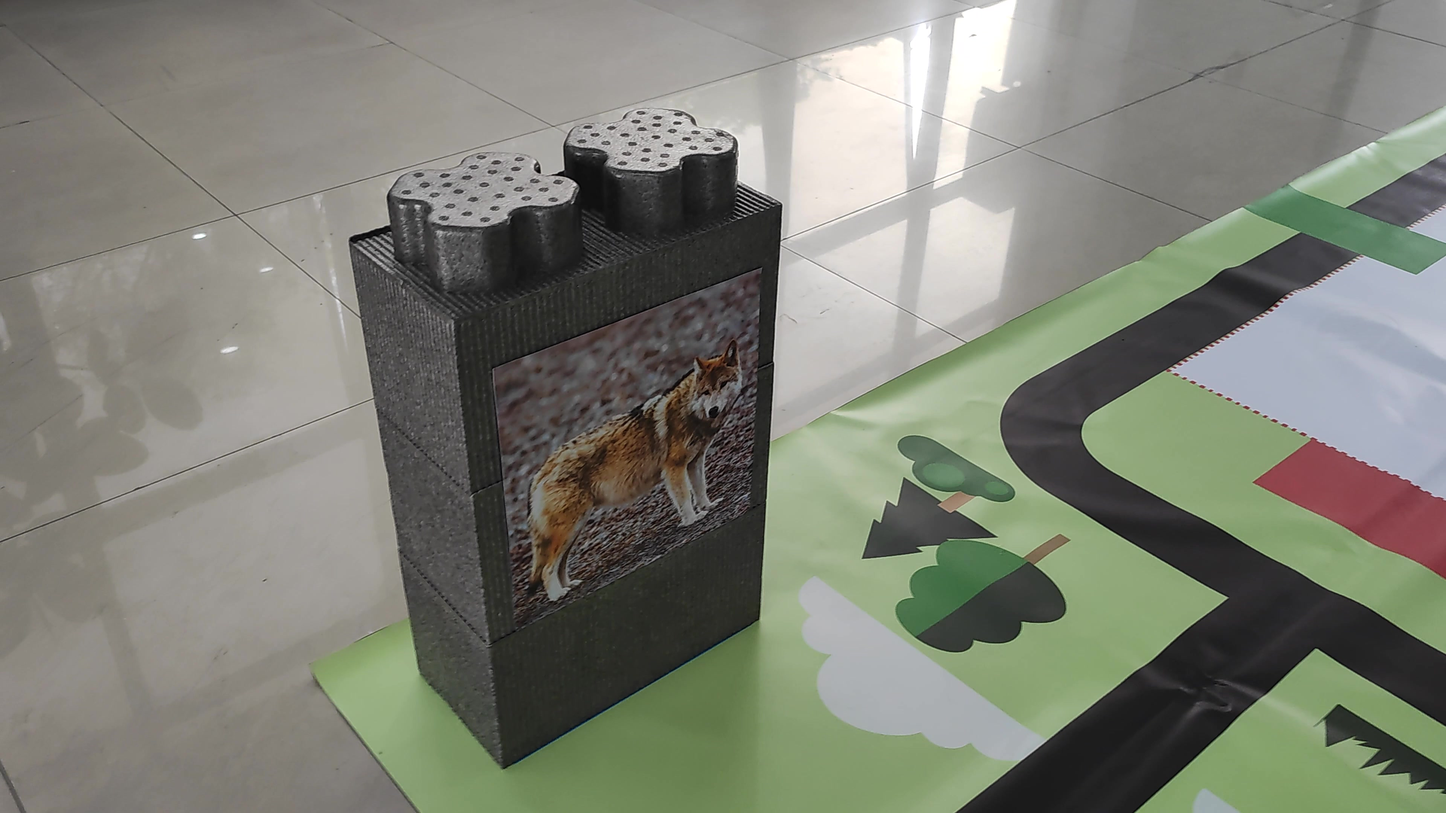wolf: (505, 332, 750, 610)
